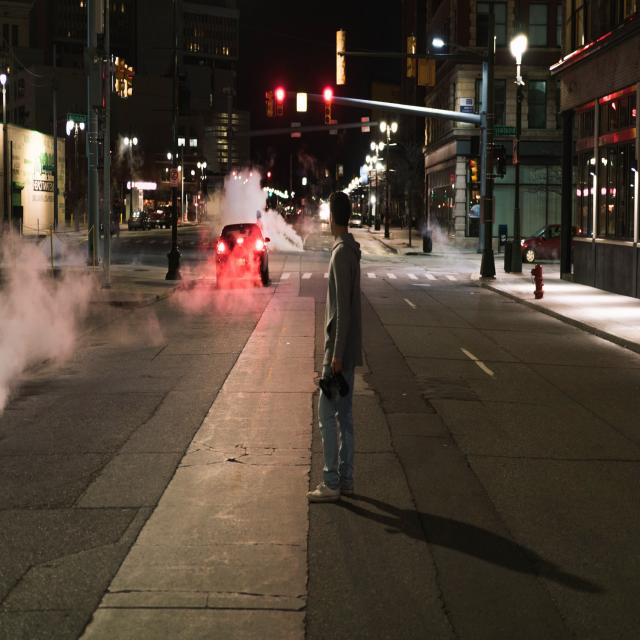adult: (304, 193, 364, 500)
